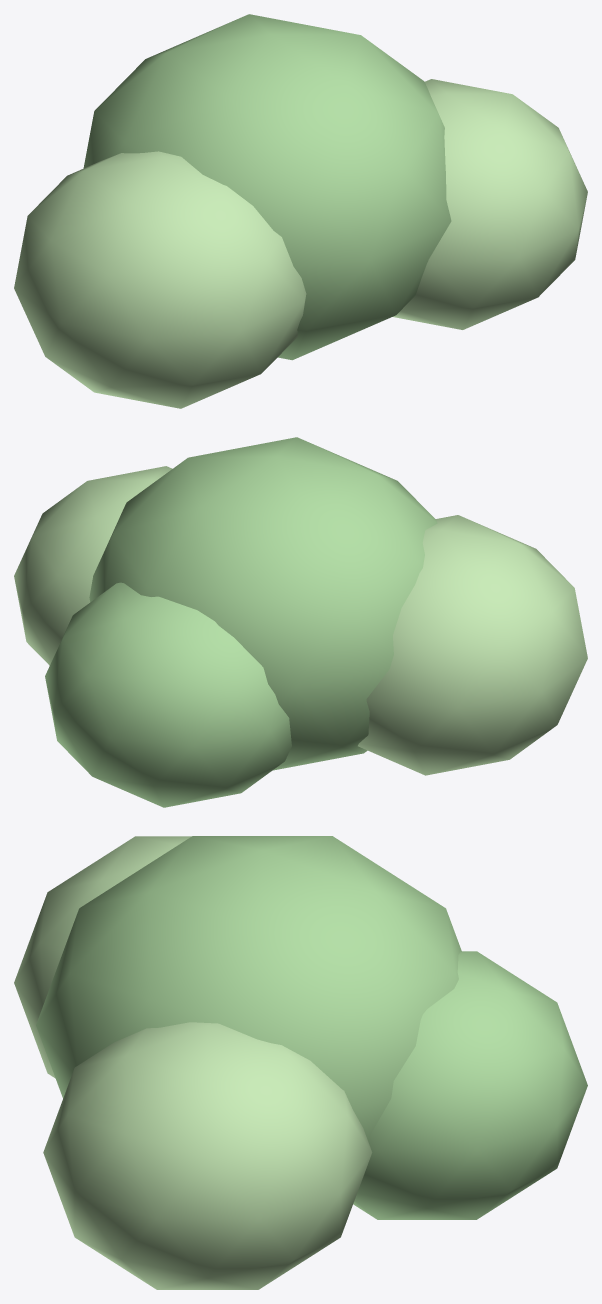
Rendered from bush.glb.
3 views of the same model, one above another, from view 1: azimuth 30°, elevation 25°; view 2: azimuth 150°, elevation 25°; view 3: azimuth 270°, elevation 25° (orthographic). The views are drawn at different scales.
Parts seen in each view (by area): view 1: Bush; view 2: Bush; view 3: Bush.
Part boxes in pixels (<box>): Bush: <box>14,14,587,408</box>; Bush: <box>14,437,587,807</box>; Bush: <box>14,836,587,1289</box>.
Bounding box in the file's own units: 1.93 × 1.05 × 1.57.
